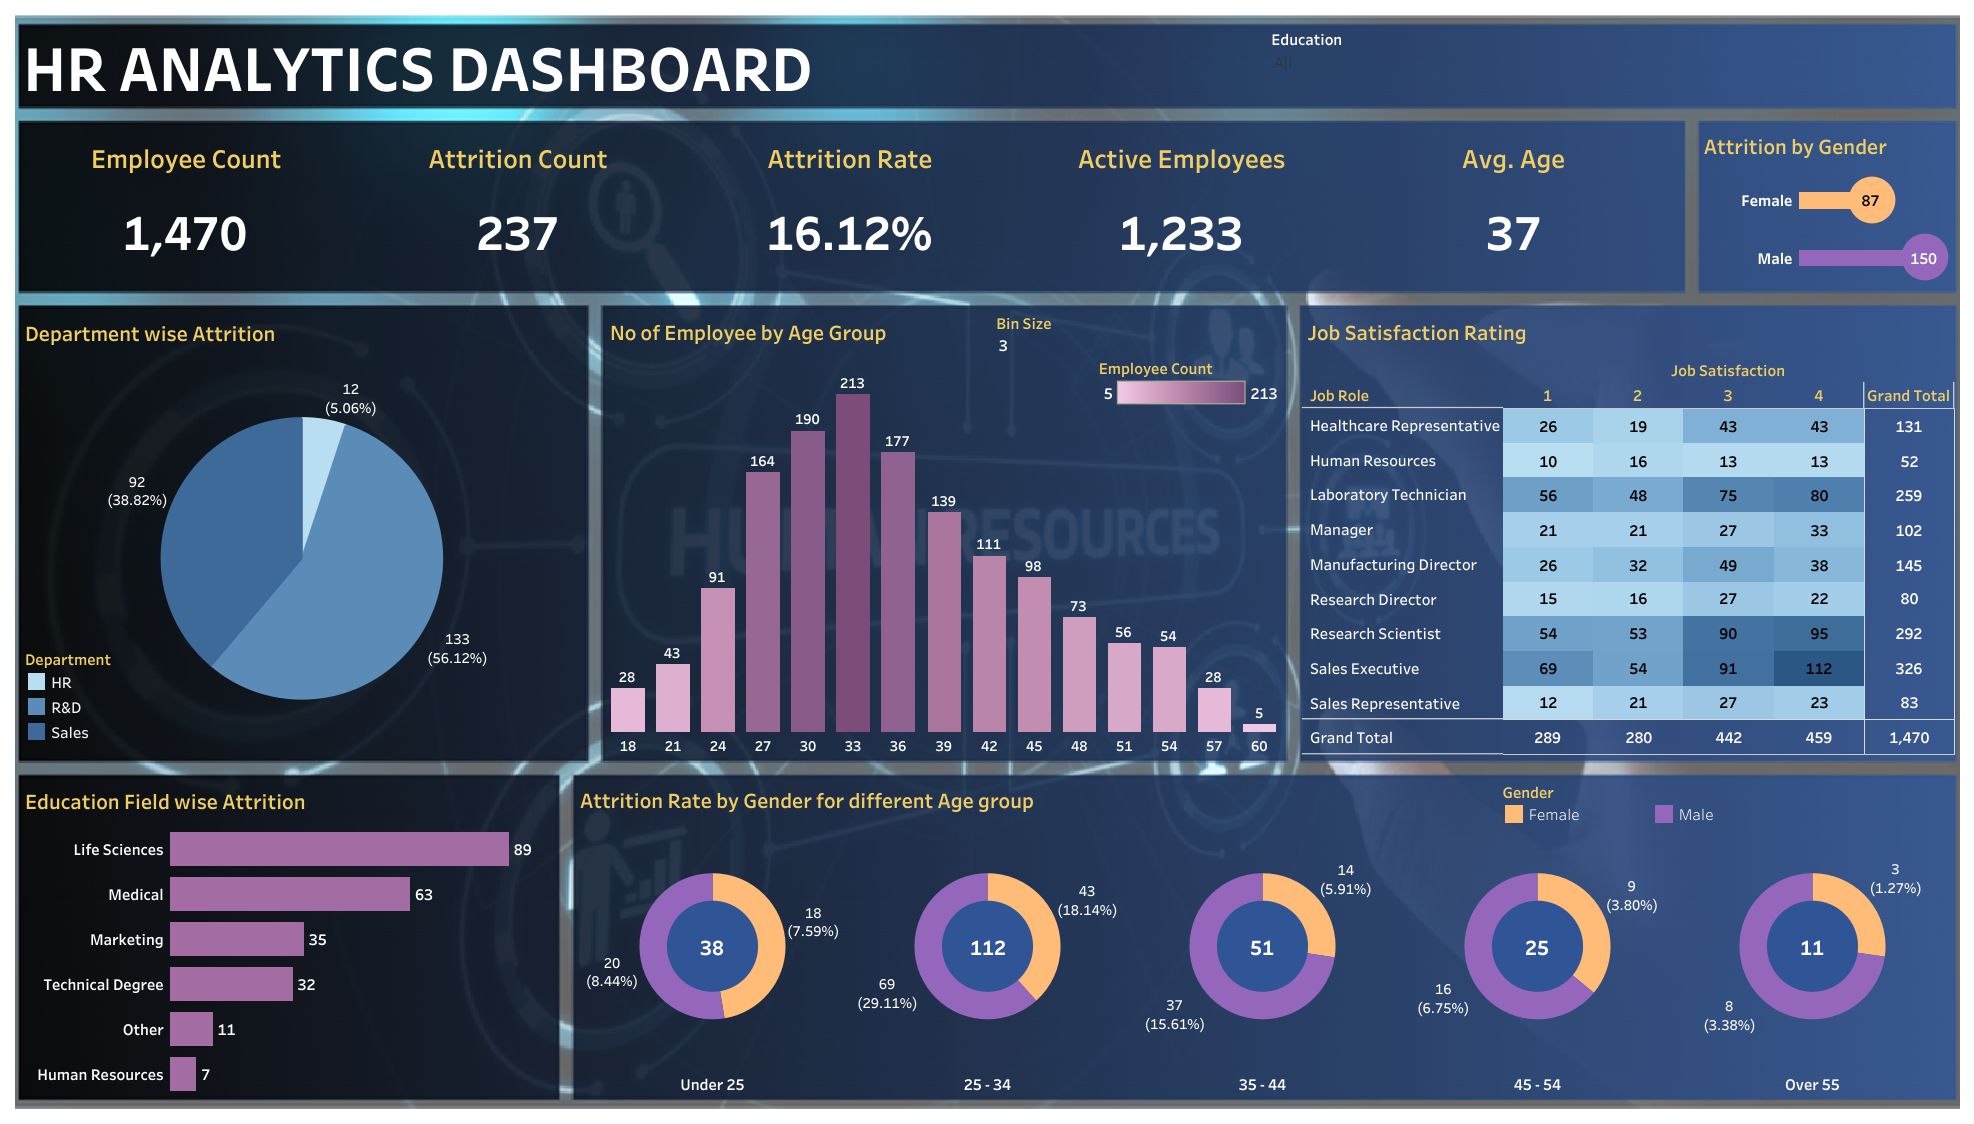

What the dashboard file says about the page in this screenshot:
{"tool":"tableau","page":{"name":"HR Analytics Dashboard","canvas":[1580,900],"ordinal":0},"visuals":[{"type":"image","param":"Image/HR background final.png.png","box":[8,8,1564,884]},{"type":"filter","title":"Department wise Attrition","param":"[federated.065c8ar056sifr1a4jq620vgfr9p].[none:Education:nk]","box":[1017,21,160,61]},{"type":"text","box":[16,22,828,61]},{"type":"worksheet","title":"Attrition by Gender","mark":"Automatic","rows":["Gender"],"cols":["Calculation_201536112435630080","Calculation_201536112435630080"],"box":[1359,99,205,130]},{"type":"worksheet","title":"KPI","mark":"Automatic","box":[16,100,1328,129]},{"type":"worksheet","title":"No of Employee by Age Group","mark":"Automatic","rows":["Employee Count"],"cols":["Age (bin)"],"box":[484,248,542,357]},{"type":"parameter","param":"[Parameters].[Parameter 1]","box":[797,248,230,42]},{"type":"worksheet","title":"Job Satisfaction Rating","mark":"Square","rows":["Job Role"],"cols":["Job Satisfaction"],"box":[1042,248,522,356]},{"type":"worksheet","title":"Department wise Attrition","mark":"Pie","box":[16,249,451,357]},{"type":"legend","title":"No of Employee by Age Group","param":"[federated.065c8ar056sifr1a4jq620vgfr9p].[sum:Employee Count:qk]","box":[879,281,148,47]},{"type":"legend","title":"Department wise Attrition","param":"[federated.065c8ar056sifr1a4jq620vgfr9p].[none:Department:nk]","box":[19,516,127,90]},{"type":"worksheet","title":"Attrition Rate by Gender for different Age group","mark":"Pie","rows":["Calculation_201536113102655492","Calculation_201536113102655492"],"cols":["CF_age band"],"box":[460,622,1100,255]},{"type":"legend","title":"Attrition Rate by Gender for different Age group","param":"[federated.065c8ar056sifr1a4jq620vgfr9p].[none:Gender:nk]","box":[1201,622,362,39]},{"type":"worksheet","title":"Education Field wise Attrition","mark":"Automatic","rows":["Education Field"],"cols":["Calculation_201536112435630080"],"box":[16,623,428,254]}]}

Visuals, with their boxes in screenshot pixels (x1, y1, x2, y2), scaled from the page's 1580x900 canvas onto the 1974x1124 screenshot:
image: 10, 10, 1964, 1114
"Department wise Attrition" filter: 1271, 26, 1471, 102
text: 20, 27, 1054, 104
"Attrition by Gender" worksheet: 1698, 124, 1954, 286
"KPI" worksheet: 20, 125, 1679, 286
"No of Employee by Age Group" worksheet: 605, 310, 1282, 756
parameter: 996, 310, 1283, 362
"Job Satisfaction Rating" worksheet (Square marks): 1302, 310, 1954, 754
"Department wise Attrition" worksheet (Pie marks): 20, 311, 583, 757
"No of Employee by Age Group" legend: 1098, 351, 1283, 410
"Department wise Attrition" legend: 24, 644, 182, 757
"Attrition Rate by Gender for different Age group" worksheet (Pie marks): 575, 777, 1949, 1095
"Attrition Rate by Gender for different Age group" legend: 1500, 777, 1953, 826
"Education Field wise Attrition" worksheet: 20, 778, 555, 1095
